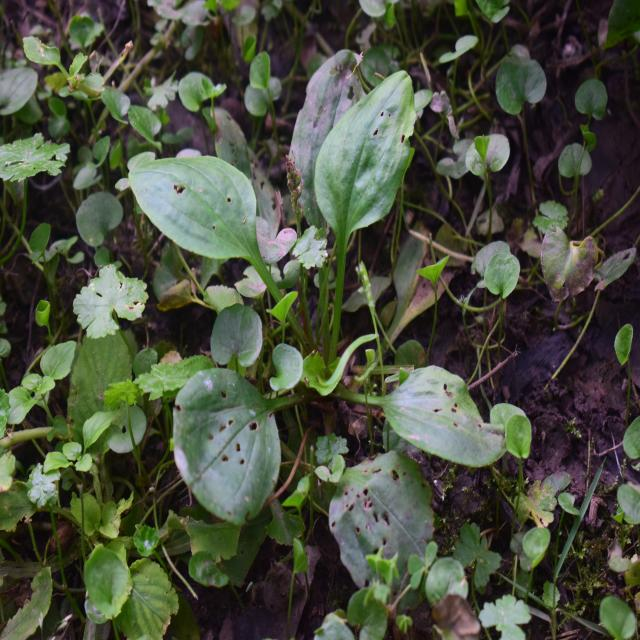plantain: (129, 84, 461, 512)
